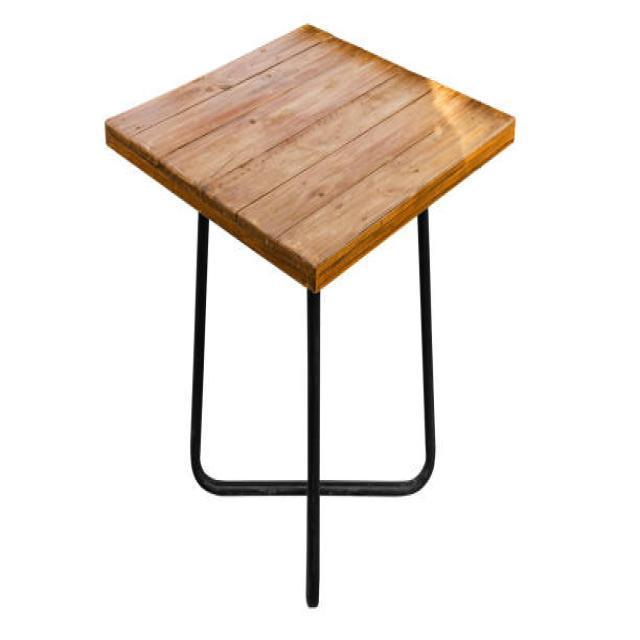table: (103, 20, 516, 607)
